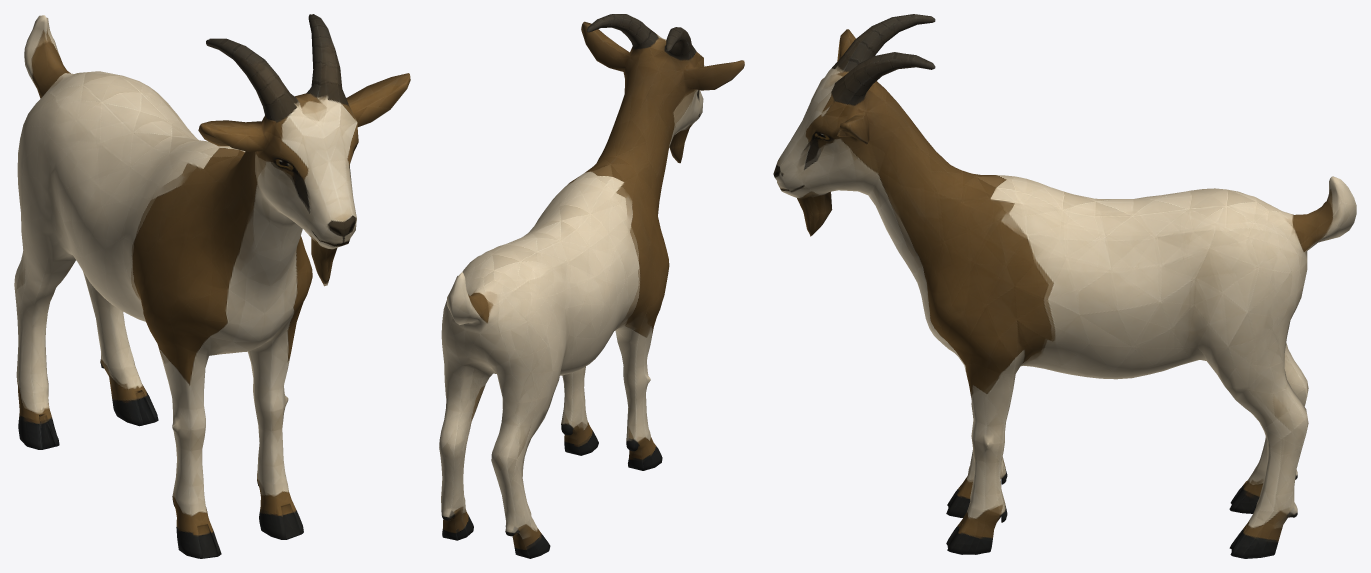
The model's file is goat.glb.
3 views of the same model, side by side, from view 1: azimuth 30°, elevation 25°; view 2: azimuth 150°, elevation 25°; view 3: azimuth 270°, elevation 25° (orthographic). The views are drawn at different scales.
Visible parts, largest first — view 1: GOE_goat; view 2: GOE_goat; view 3: GOE_goat.
Part boxes in pixels (bbox=[...]): GOE_goat: bbox=[14, 14, 410, 558]; GOE_goat: bbox=[439, 14, 744, 558]; GOE_goat: bbox=[773, 14, 1356, 558].
Bounding box in the file's own units: 0.3848 × 0.9362 × 1.
1 material, 1 textured.
